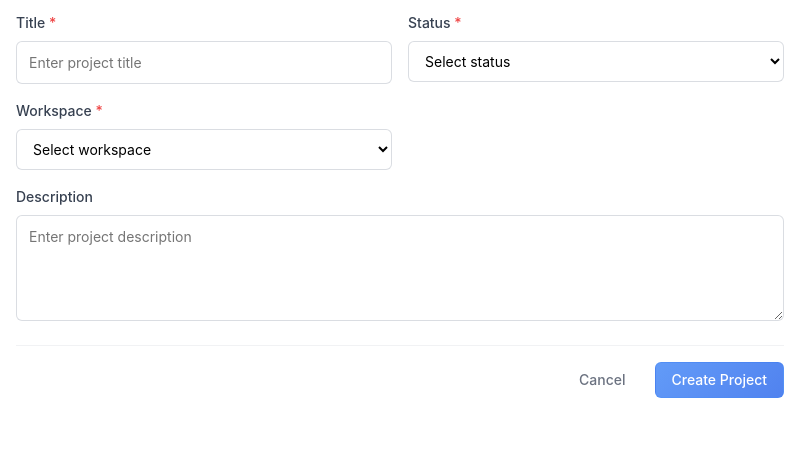
ProjectForm › validates required fields
Click the button "Create Project": (719, 380) [654, 362, 784, 398]
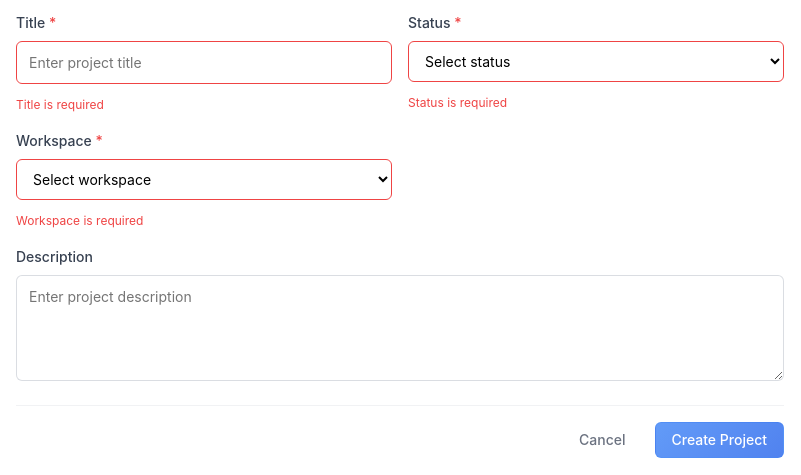
expect the text "Title is required" is shown: met, box [16, 97, 104, 112]
expect the text "Status is required" is shown: met, box [408, 95, 507, 110]
expect the text "Workspace is required" is shown: met, box [16, 213, 143, 228]
